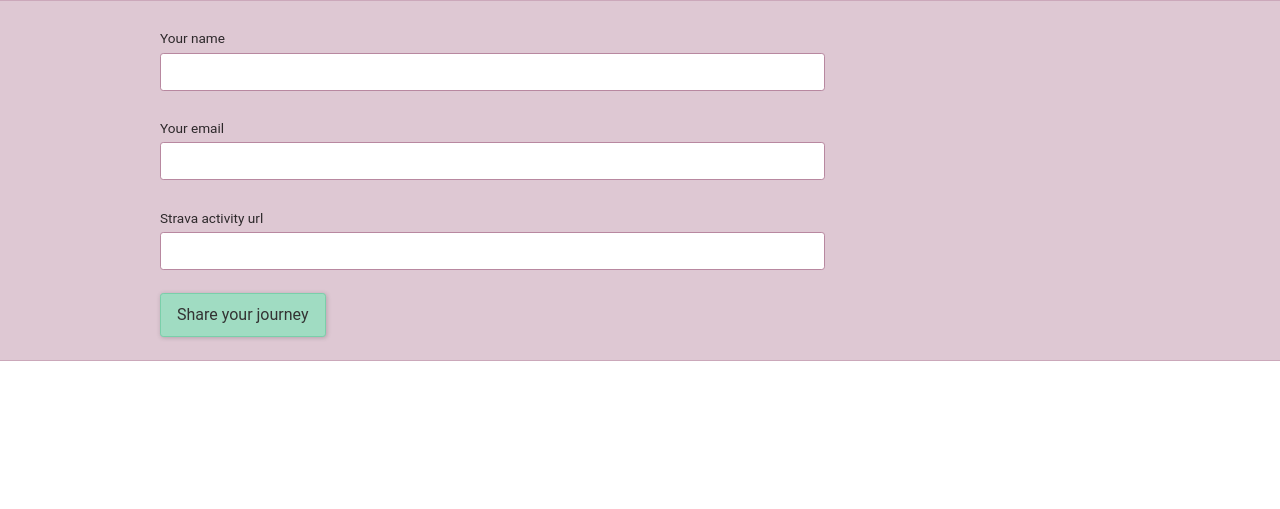
Scenario: <LonelinessForm> › rejects incorrect strava urls
Type "google.com" into the field labelled "Strava activity url" at {"x": 492, "y": 251}, box [160,232,825,270]
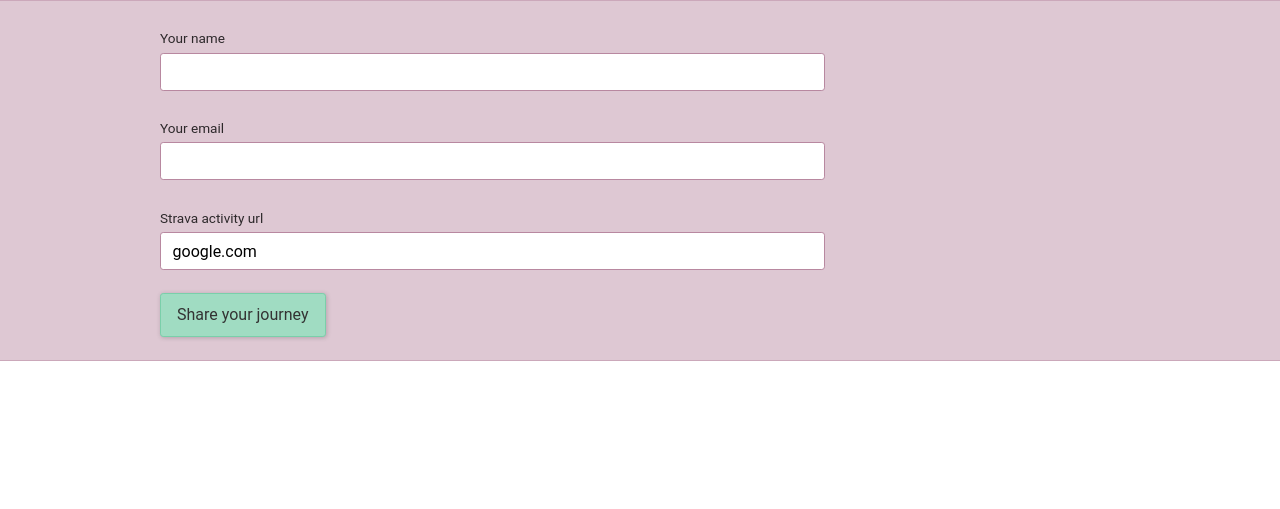
Click the button "Share your journey" at {"x": 243, "y": 315}, box [160,293,326,337]
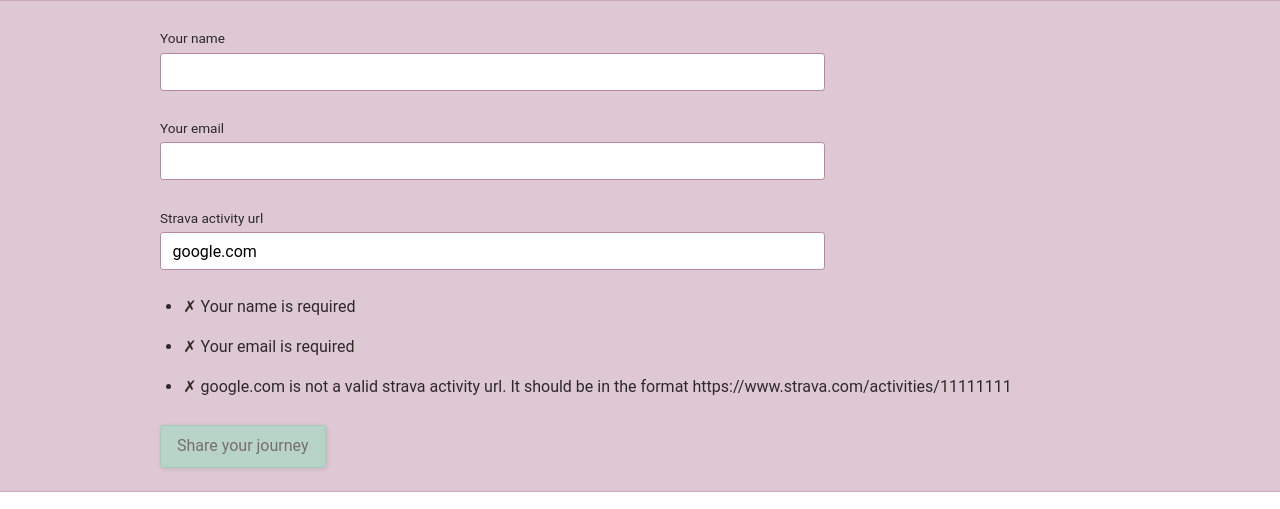
Check: the button "Share your journey" is disabled, box [160,425,326,468]
Check: the list item "google.com is not a valid strava" is shown, box [201,377,1012,396]
